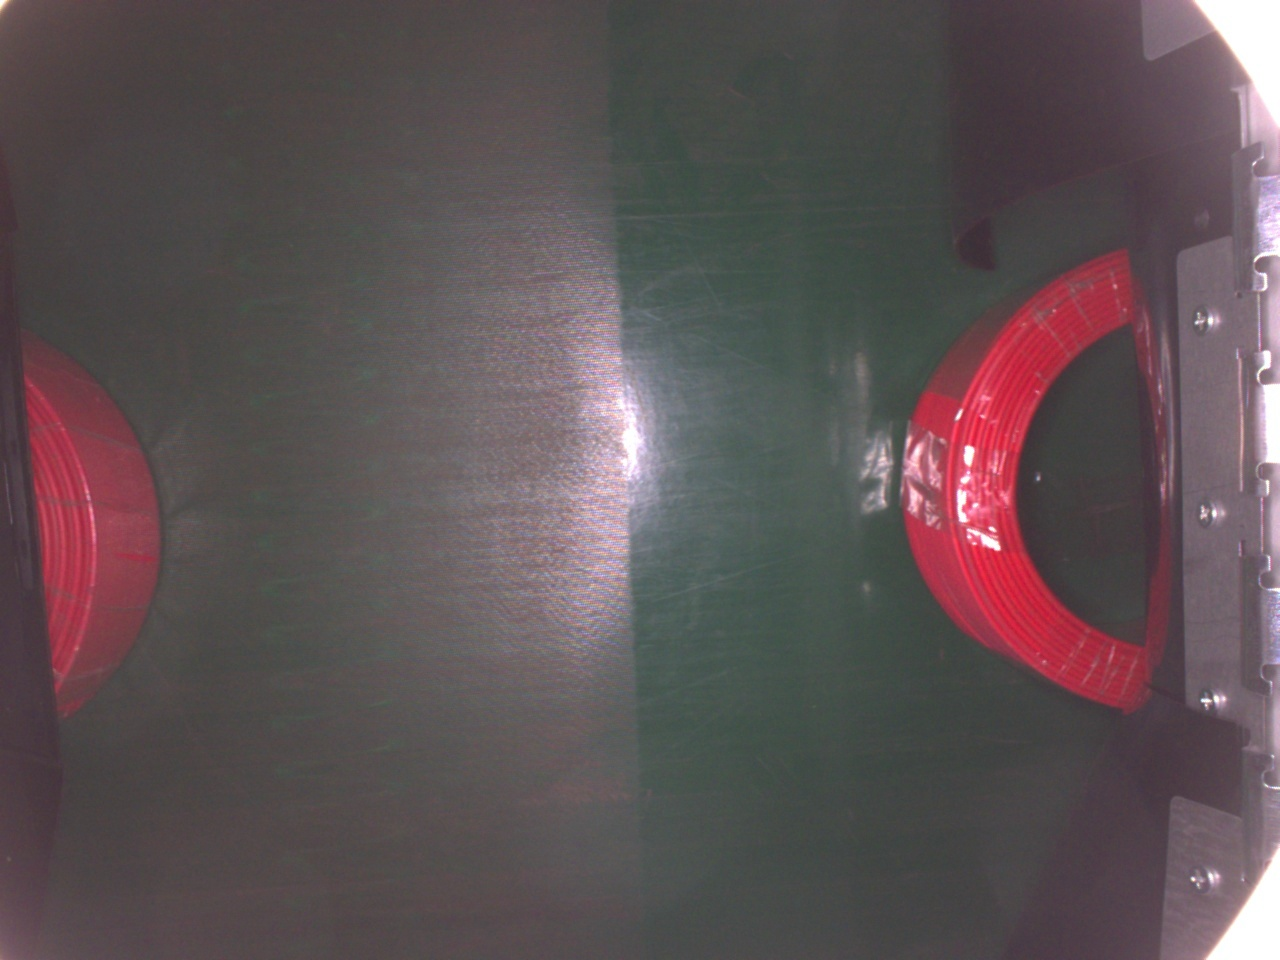red: (905, 237, 1155, 710)
